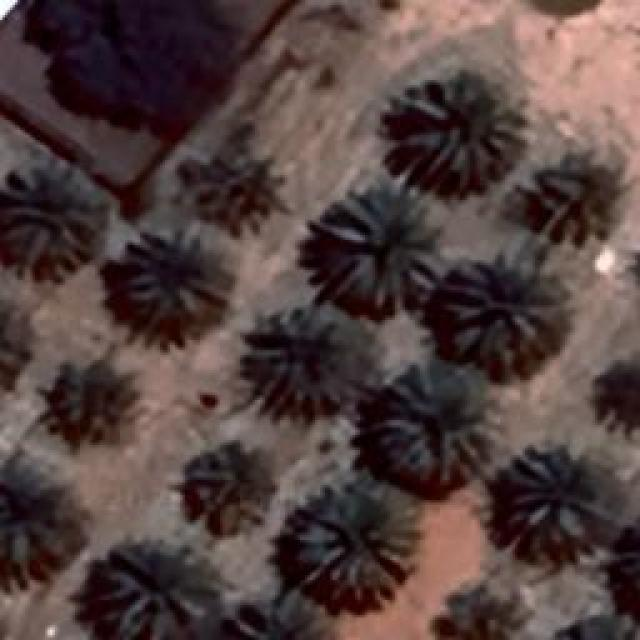PalmTree: (290, 472, 420, 606), (320, 182, 448, 310), (375, 360, 495, 485), (400, 72, 525, 190), (440, 250, 558, 372), (240, 300, 350, 418), (0, 157, 105, 280), (95, 534, 215, 638), (514, 145, 628, 245), (125, 222, 233, 320), (504, 440, 598, 542), (0, 470, 82, 585), (182, 440, 280, 535), (178, 144, 282, 228), (48, 365, 142, 443), (433, 584, 534, 640), (224, 594, 332, 640), (591, 355, 640, 442), (0, 294, 48, 381), (602, 518, 640, 622), (549, 616, 640, 639)
